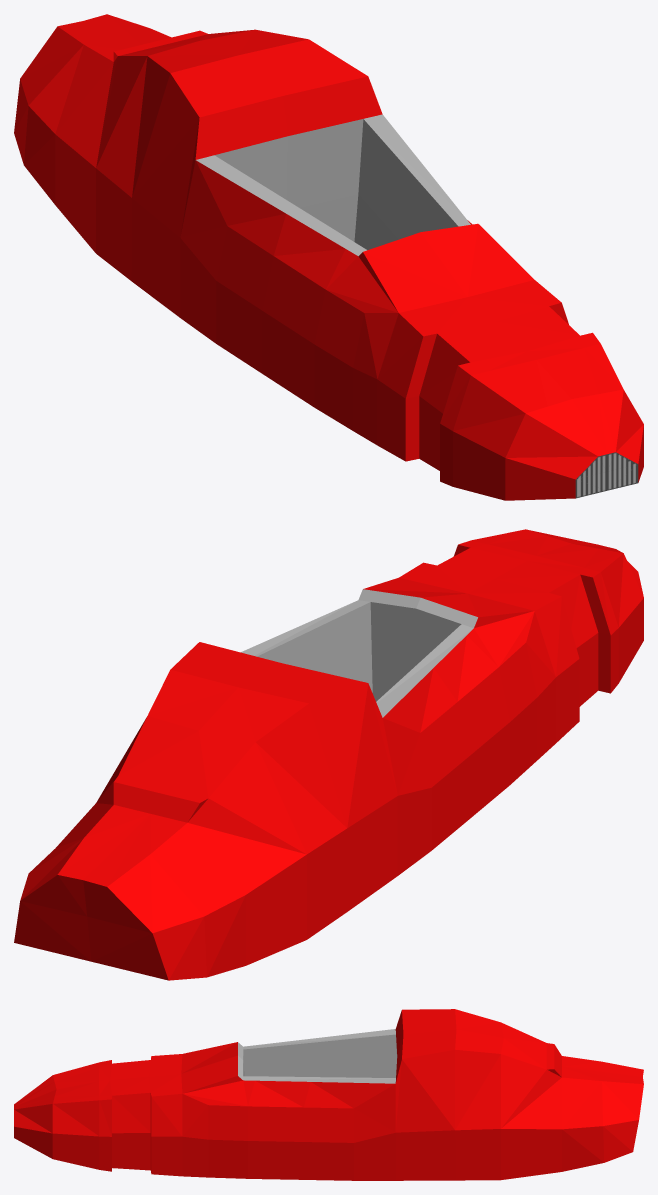
3 renders of one model, top to bottom at view 1: azimuth 30°, elevation 25°; view 2: azimuth 150°, elevation 25°; view 3: azimuth 270°, elevation 25°, orthographic. The views are drawn at different scales.
Parts seen in each view (by area): view 1: Chasis; view 2: Chasis; view 3: Chasis.
Boxes of the visible parts, <box> form: Chasis: <box>14,14,643,500</box>; Chasis: <box>14,529,643,980</box>; Chasis: <box>14,1009,643,1180</box>.
Bounding box in the file's own units: 15.75 × 13.97 × 65.83.
1 material, 1 textured.
